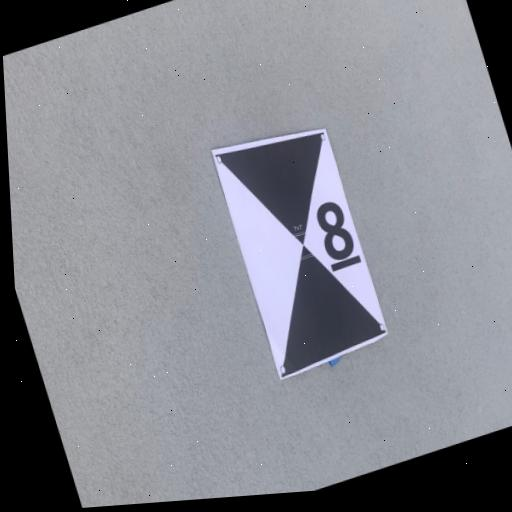target8: (212, 129, 390, 379)
